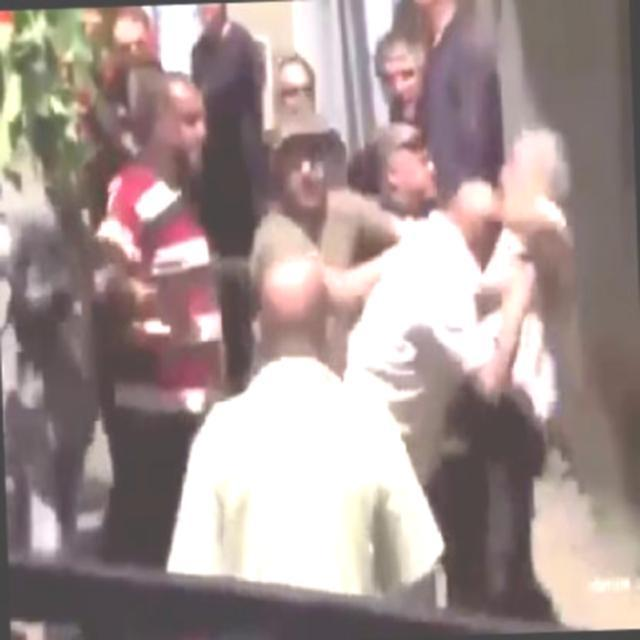fight: (259, 104, 544, 370)
